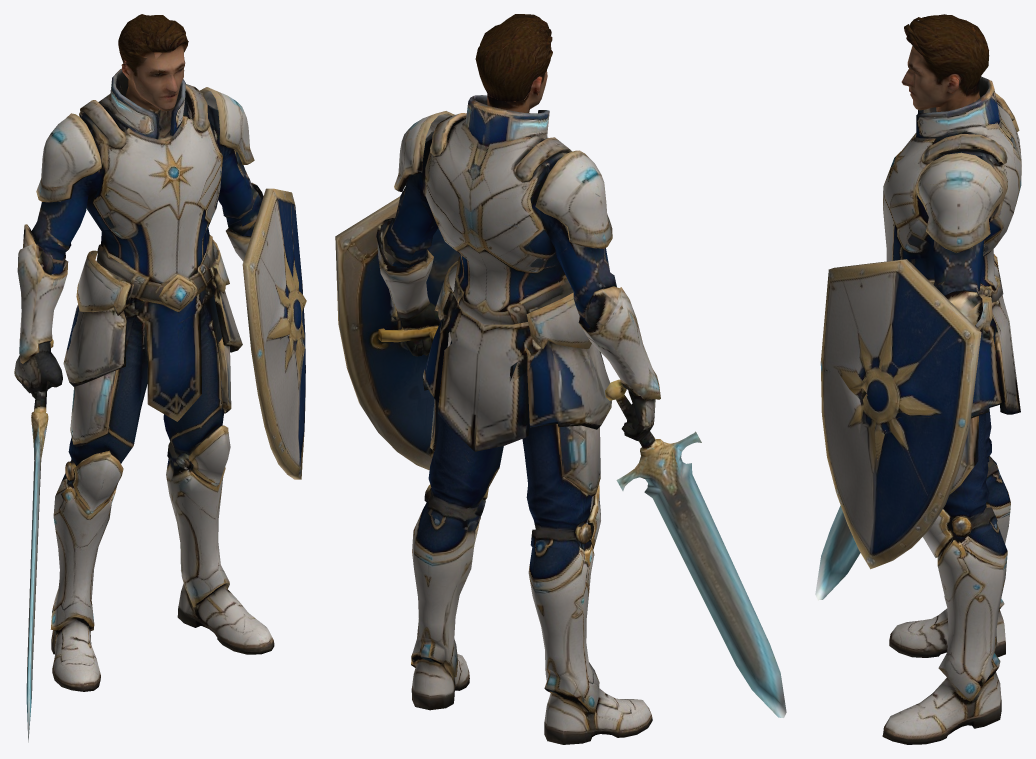
The model's file is paladin-shield.original.glb.
3 views of the same model, side by side, from view 1: azimuth 30°, elevation 25°; view 2: azimuth 150°, elevation 25°; view 3: azimuth 270°, elevation 25° (orthographic). The views are drawn at different scales.
Parts seen in each view (by area): view 1: tripo_part_4_Clone, tripo_part_2_Clone, tripo_part_9_Clone, tripo_part_1_Clone, tripo_part_3_Clone, tripo_part_0_Clone, tripo_part_7_Clone, tripo_part_14_Clone, tripo_part_12_Clone, tripo_part_8_Clone, tripo_part_15_Clone, tripo_part_22_Clone (+11 smaller); view 2: tripo_part_4_Clone, tripo_part_3_Clone, tripo_part_1_Clone, tripo_part_9_Clone, tripo_part_2_Clone, tripo_part_8_Clone, tripo_part_0_Clone, tripo_part_14_Clone, tripo_part_7_Clone, tripo_part_15_Clone, tripo_part_12_Clone, tripo_part_10_Clone (+6 smaller); view 3: tripo_part_9_Clone, tripo_part_2_Clone, tripo_part_4_Clone, tripo_part_0_Clone, tripo_part_11_Clone, tripo_part_1_Clone, tripo_part_3_Clone, tripo_part_15_Clone, tripo_part_8_Clone, tripo_part_16_Clone, tripo_part_21_Clone, tripo_part_18_Clone (+2 smaller).
Boxes of the visible parts, x1=… form: tripo_part_4_Clone: x1=79, y1=68, x2=222, y2=304; tripo_part_2_Clone: x1=163, y1=294, x2=274, y2=654; tripo_part_9_Clone: x1=242, y1=188, x2=306, y2=479; tripo_part_1_Clone: x1=50, y1=308, x2=147, y2=691; tripo_part_3_Clone: x1=63, y1=278, x2=242, y2=421; tripo_part_0_Clone: x1=118, y1=14, x2=188, y2=137; tripo_part_7_Clone: x1=17, y1=224, x2=68, y2=363; tripo_part_14_Clone: x1=36, y1=113, x2=102, y2=202; tripo_part_12_Clone: x1=32, y1=129, x2=101, y2=270; tripo_part_8_Clone: x1=26, y1=339, x2=53, y2=742; tripo_part_15_Clone: x1=207, y1=107, x2=261, y2=235; tripo_part_22_Clone: x1=70, y1=370, x2=116, y2=447; tripo_part_4_Clone: x1=423, y1=95, x2=573, y2=324; tripo_part_3_Clone: x1=422, y1=291, x2=611, y2=451; tripo_part_1_Clone: x1=512, y1=362, x2=652, y2=744; tripo_part_9_Clone: x1=335, y1=196, x2=459, y2=470; tripo_part_2_Clone: x1=411, y1=340, x2=503, y2=710; tripo_part_8_Clone: x1=605, y1=379, x2=786, y2=717; tripo_part_0_Clone: x1=475, y1=14, x2=552, y2=112; tripo_part_14_Clone: x1=535, y1=150, x2=612, y2=248; tripo_part_7_Clone: x1=579, y1=286, x2=660, y2=399; tripo_part_15_Clone: x1=383, y1=131, x2=438, y2=267; tripo_part_12_Clone: x1=536, y1=201, x2=616, y2=320; tripo_part_10_Clone: x1=376, y1=218, x2=433, y2=319; tripo_part_9_Clone: x1=820, y1=259, x2=981, y2=569; tripo_part_2_Clone: x1=882, y1=330, x2=1007, y2=744; tripo_part_4_Clone: x1=883, y1=76, x2=1021, y2=302; tripo_part_0_Clone: x1=901, y1=15, x2=989, y2=111; tripo_part_11_Clone: x1=916, y1=152, x2=1006, y2=253; tripo_part_1_Clone: x1=889, y1=408, x2=1010, y2=657; tripo_part_3_Clone: x1=971, y1=295, x2=1020, y2=418; tripo_part_15_Clone: x1=933, y1=211, x2=994, y2=295; tripo_part_8_Clone: x1=815, y1=505, x2=860, y2=600; tripo_part_16_Clone: x1=921, y1=134, x2=1007, y2=165; tripo_part_21_Clone: x1=949, y1=416, x2=978, y2=494; tripo_part_18_Clone: x1=923, y1=509, x2=956, y2=557.
Size of the model in its own units: 0.5613 by 1 by 0.276.
1 material, 1 textured.
